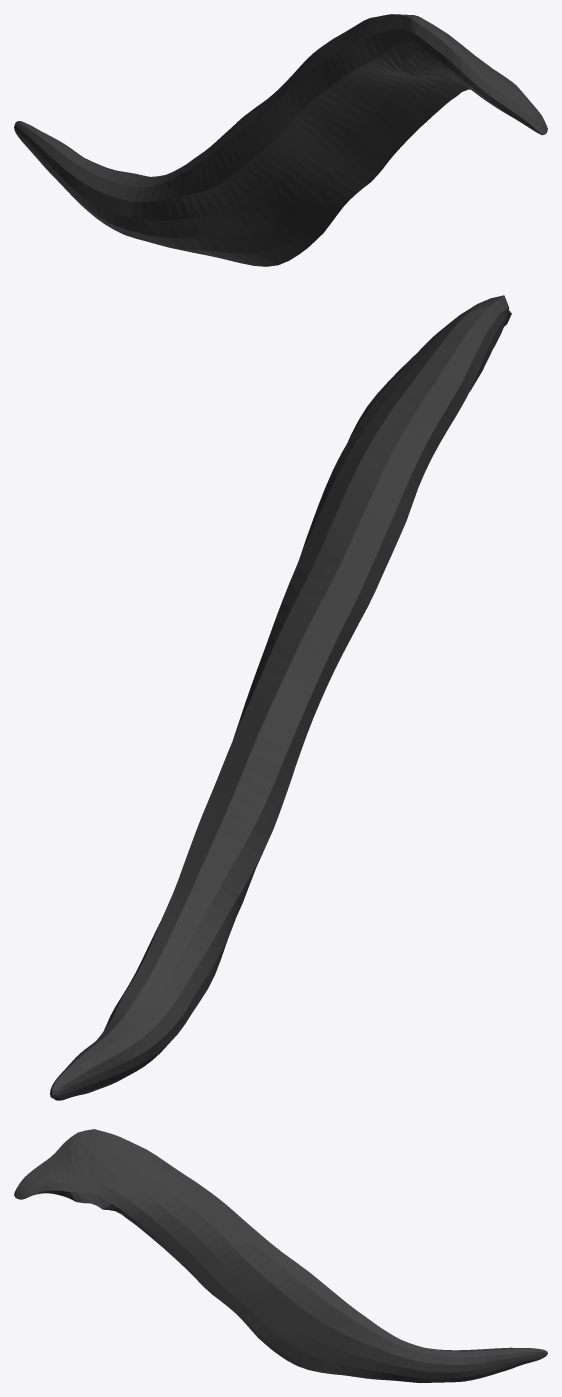
The model's file is Splenius_capitus.glb.
The picture shows the model from 3 angles, top to bottom: view 1: azimuth 30°, elevation 25°; view 2: azimuth 150°, elevation 25°; view 3: azimuth 270°, elevation 25°; orthographic projection. The views are drawn at different scales.
Visible parts, largest first — view 1: Splenius_capitus; view 2: Splenius_capitus; view 3: Splenius_capitus.
Part boxes in pixels (x1=…): Splenius_capitus: x1=14, y1=14, x2=547, y2=266; Splenius_capitus: x1=50, y1=295, x2=511, y2=1100; Splenius_capitus: x1=14, y1=1129, x2=547, y2=1382.
Bounding box in the file's own units: 0.1722 × 0.6809 × 1.31.
1 material, 1 textured.
